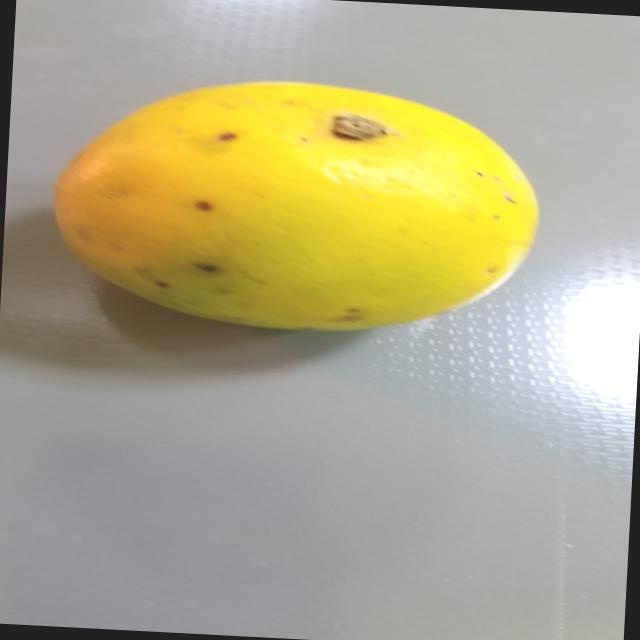agrume: (48, 62, 548, 352)
